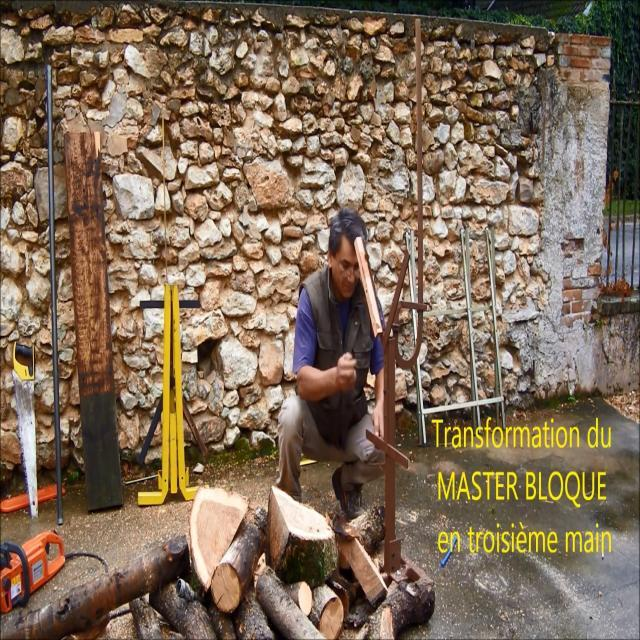Chainsaw: (0, 500, 88, 628)
